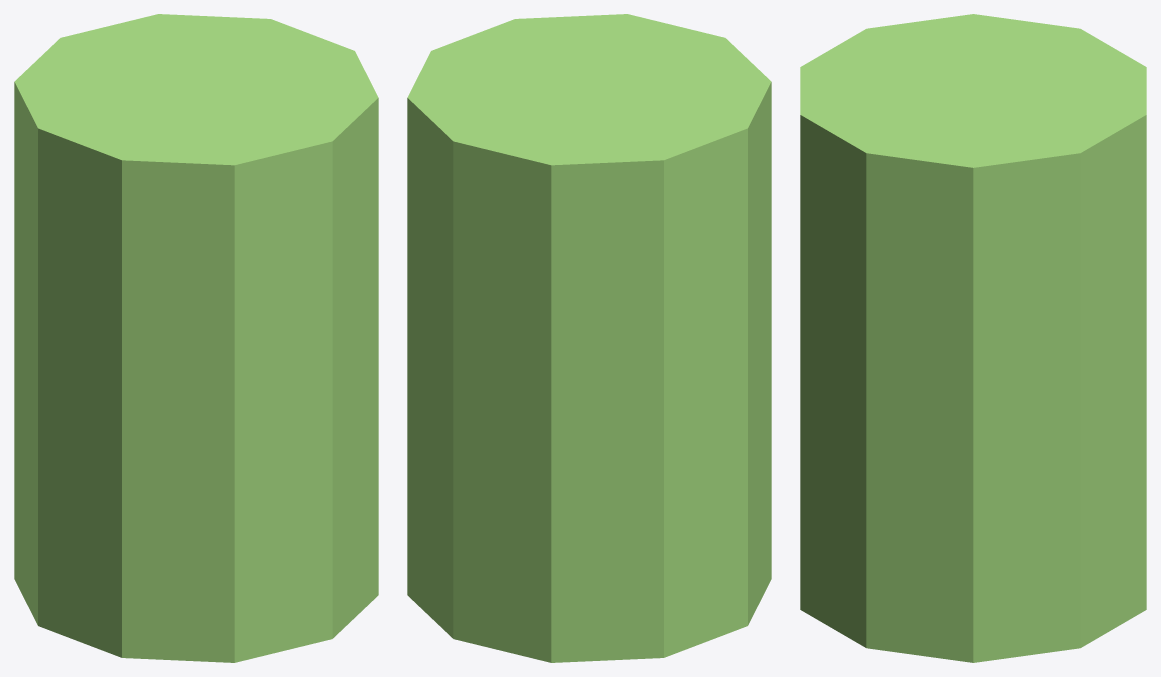
Rendered from Player.fbx.
3 views of the same model, side by side, from view 1: azimuth 30°, elevation 25°; view 2: azimuth 150°, elevation 25°; view 3: azimuth 270°, elevation 25° (orthographic).
Parts seen in each view (by area): view 1: pCylinder1; view 2: pCylinder1; view 3: pCylinder1.
Part boxes in pixels (left/top/right/bottom): pCylinder1: left=14, top=14, right=378, bottom=662; pCylinder1: left=407, top=14, right=771, bottom=662; pCylinder1: left=800, top=14, right=1146, bottom=662.
Bounding box in the file's own units: 1 × 1.5 × 0.9511.
